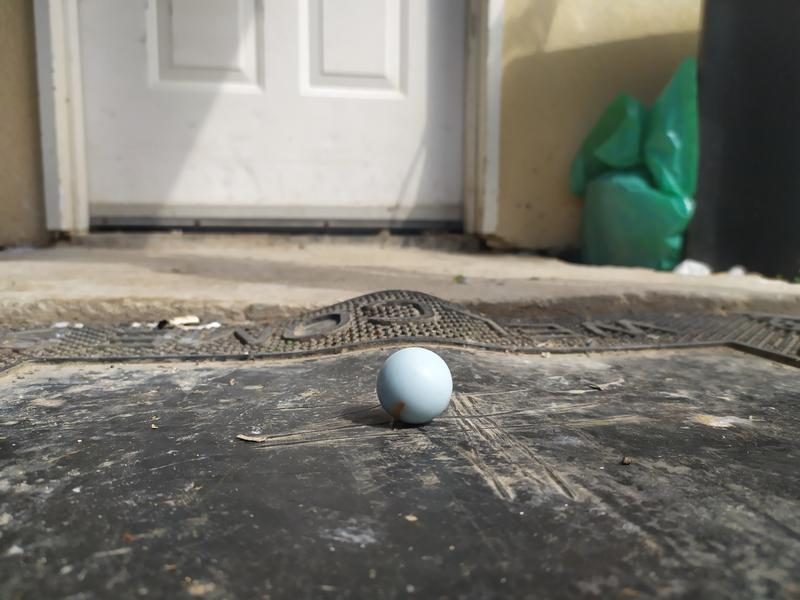Warning: (373, 346, 457, 426)
